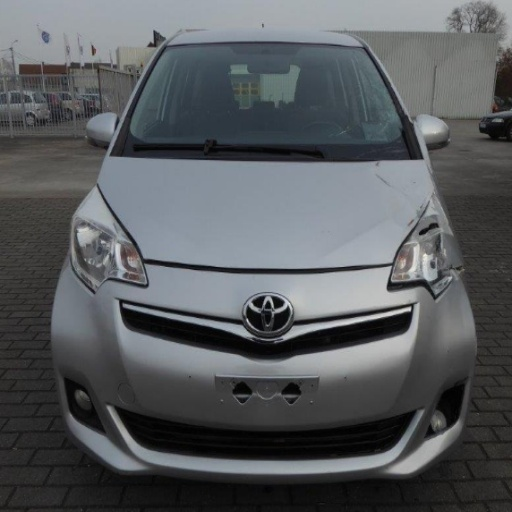scratch: (407, 203, 426, 229), (373, 173, 393, 187), (374, 161, 381, 168), (412, 181, 415, 185)
